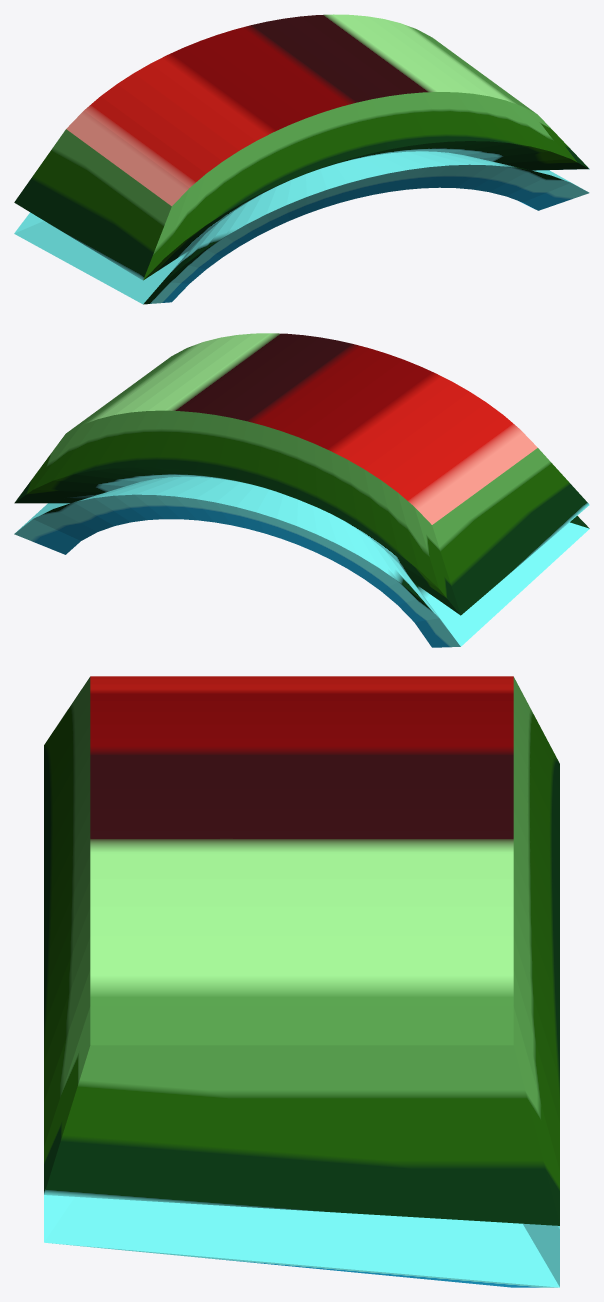
The picture shows the model from 3 angles, top to bottom: view 1: azimuth 30°, elevation 25°; view 2: azimuth 150°, elevation 25°; view 3: azimuth 270°, elevation 25°; orthographic projection. The views are drawn at different scales.
Parts seen in each view (by area): view 1: Paddle; view 2: Paddle; view 3: Paddle.
Boxes of the visible parts, x1,y1,x2,y2 form: Paddle: (14,14,589,304); Paddle: (14,333,589,647); Paddle: (44,676,559,1287).
Bounding box in the file's own units: 4.88 × 1.89 × 2.44.
